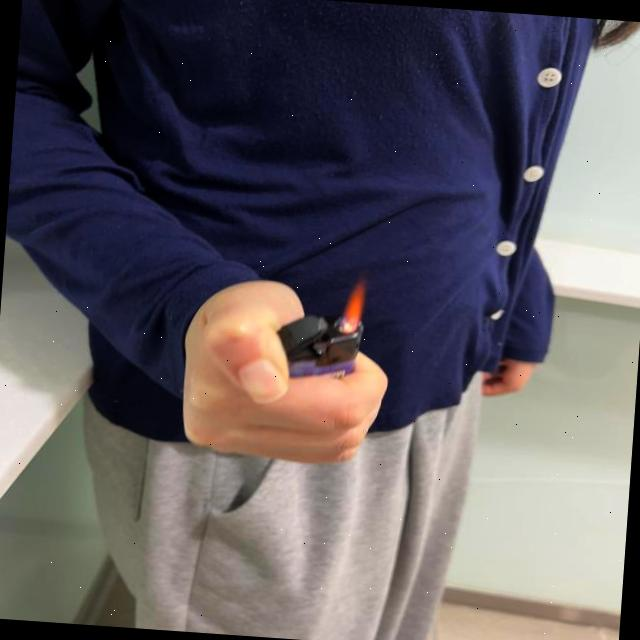fire: (336, 274, 368, 332)
